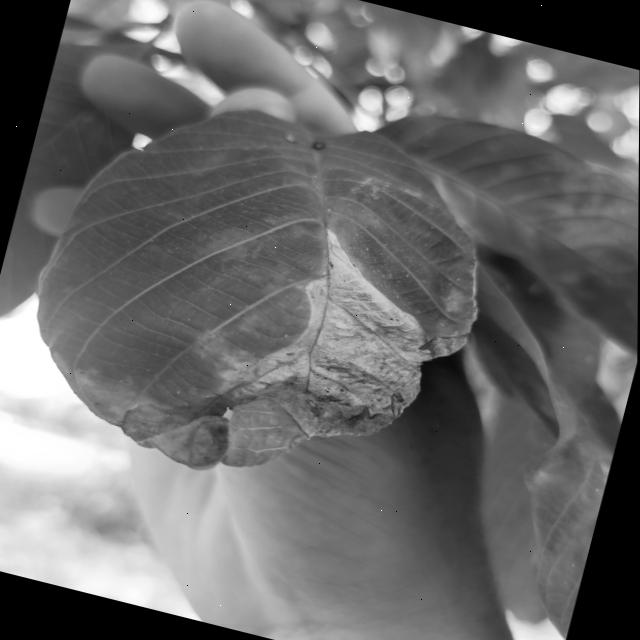Leaf-Blight: (113, 189, 486, 525)
